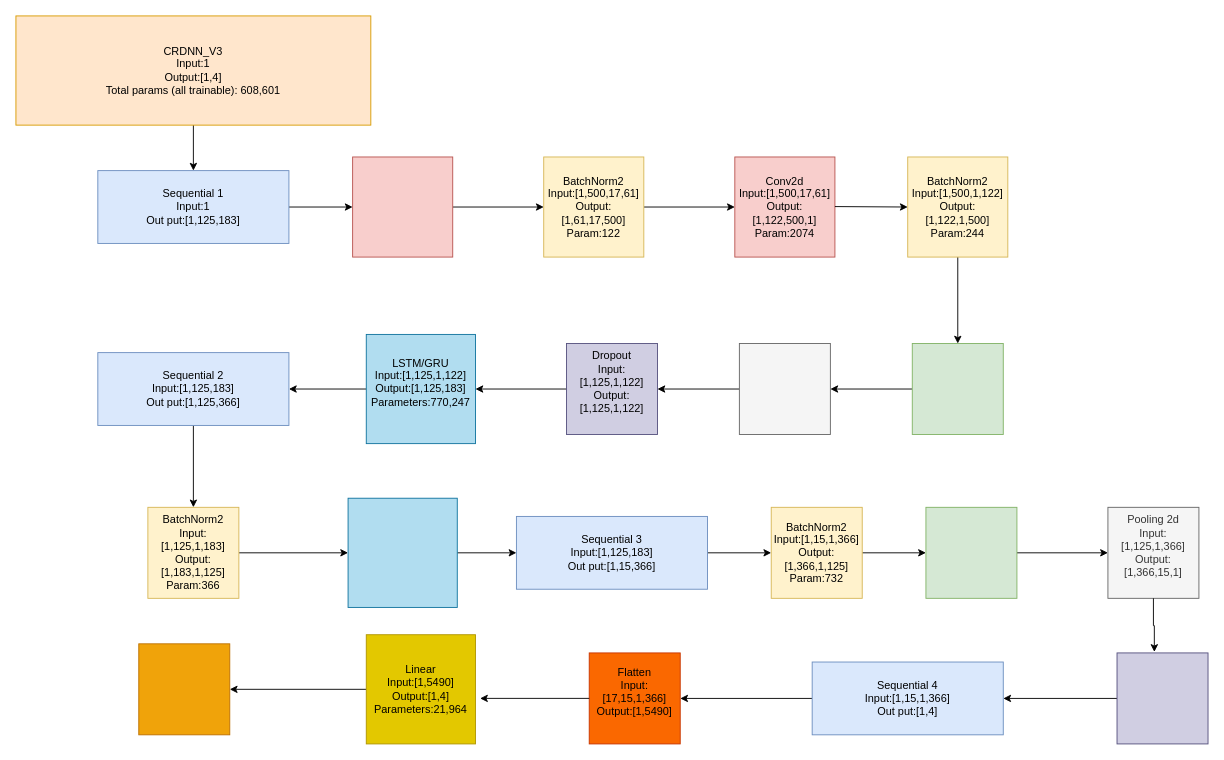
Image size: 1224x760. Some labels were removed from this diagram. The shapes that lost their labels are listed below. From the top down, each one's centre as x and y in pixels, then its label:
(402,206): Conv2d Input:1 Output:[1,61,500,17] Param:3111
(784,389): Pooling 2d Input:[1,500,1,122] Output:[1,122,125,1]
(957,389): ELU Input:[1,500,1,122] Output:[1,500,1,122]
(402,552): LSTM/GRU Input:[1,125,1,183] Output:[1,125, 366] Parameters:2,210,274
(971,552): ELU Input:[1,125,1,366] Output:[1,125,1,366]
(184,689): Log_Softmax Input:[1,4] Output:[1,4]
(1162,698): Dropout Input:[1,15,1,366] Output:[1,15,1,366]
